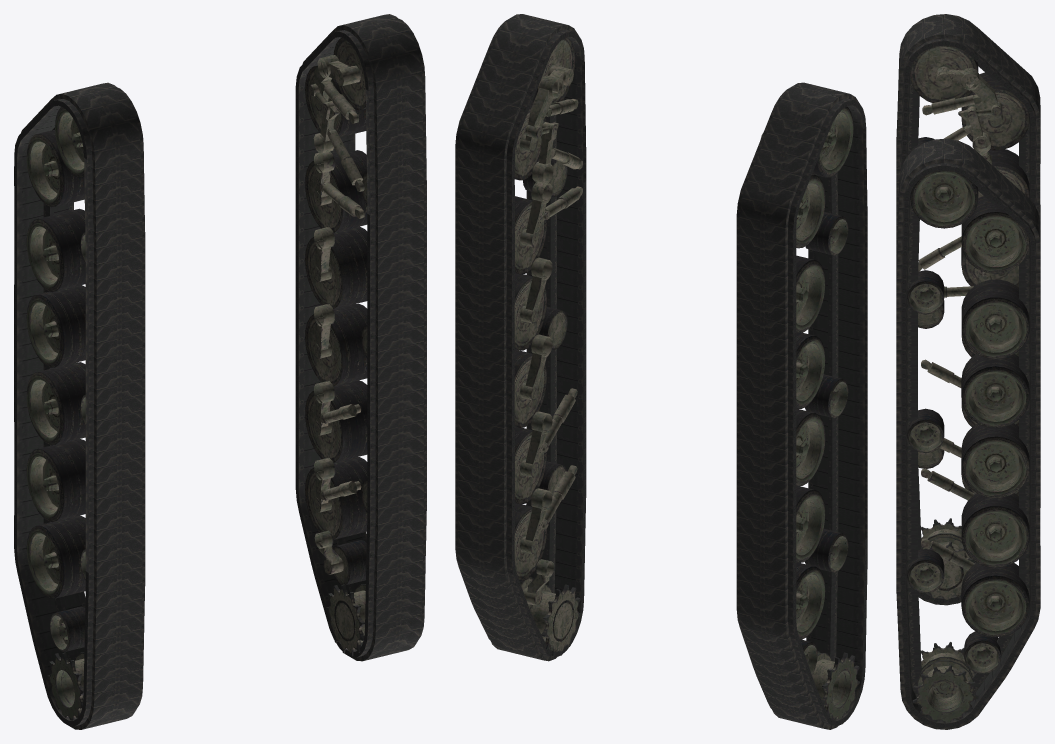
Rendered from Chassis.glb.
3 renders of one model, left to right at view 1: azimuth 30°, elevation 25°; view 2: azimuth 150°, elevation 25°; view 3: azimuth 270°, elevation 25°, orthographic. The views are drawn at different scales.
Parts seen in each view (by area): view 1: set_0_group_0, set_1_group_0, set_3_group_0, set_2_group_0; view 2: set_0_group_0, set_1_group_0, set_3_group_0, set_2_group_0; view 3: set_3_group_0, set_1_group_0, set_2_group_0, set_0_group_0.
Boxes of the visible parts, left/top/right/bottom form: set_0_group_0: left=14, top=82, right=145, bottom=729; set_1_group_0: left=295, top=14, right=426, bottom=661; set_3_group_0: left=305, top=38, right=367, bottom=656; set_2_group_0: left=26, top=107, right=85, bottom=720; set_0_group_0: left=736, top=82, right=867, bottom=729; set_1_group_0: left=455, top=14, right=586, bottom=661; set_3_group_0: left=514, top=37, right=582, bottom=656; set_2_group_0: left=761, top=107, right=859, bottom=719; set_3_group_0: left=907, top=170, right=1029, bottom=722; set_1_group_0: left=896, top=138, right=1040, bottom=729; set_2_group_0: left=908, top=45, right=1029, bottom=603; set_0_group_0: left=896, top=14, right=1040, bottom=605.
Bounding box in the file's own units: 3.42 × 6.09 × 1.39.
4 materials, 4 textured.
